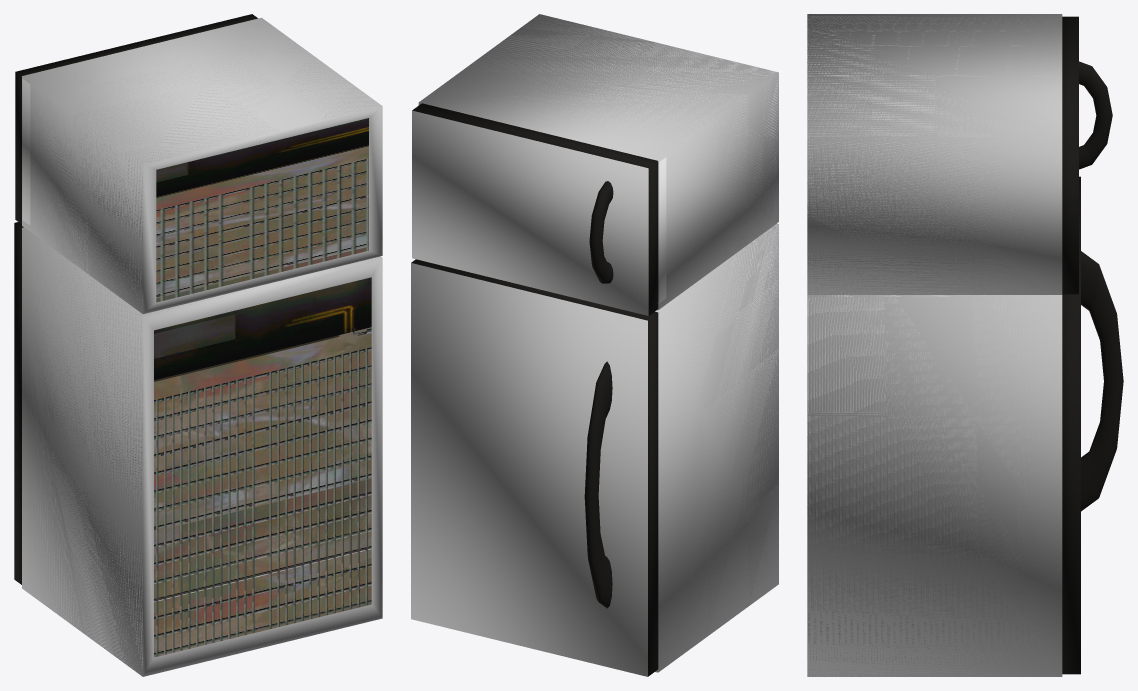
The model's file is Refrigerator.fbx.
3 renders of one model, left to right at view 1: azimuth 30°, elevation 25°; view 2: azimuth 150°, elevation 25°; view 3: azimuth 270°, elevation 25°, orthographic. The views are drawn at different scales.
Parts seen in each view (by area): view 1: refrigerator, refrigeratorBackCoils, fridgeDoor, freezerDoor, freezerInside; view 2: refrigerator, fridgeDoor, freezerDoor, fridgeHandle, freezerHandle, freezerInside; view 3: refrigerator, fridgeDoor, fridgeHandle, freezerDoor, freezerHandle.
Boxes of the visible parts, x1,y1,x2,y2 form: refrigerator: (22, 17, 382, 676); refrigeratorBackCoils: (154, 118, 371, 657); fridgeDoor: (14, 222, 23, 584); freezerDoor: (15, 14, 257, 224); freezerInside: (22, 79, 30, 225); refrigerator: (418, 14, 778, 672); fridgeDoor: (411, 259, 658, 676); freezerDoor: (412, 103, 658, 315); fridgeHandle: (584, 361, 612, 608); freezerHandle: (589, 181, 613, 283); freezerInside: (420, 103, 666, 303); refrigerator: (807, 14, 1062, 676); fridgeDoor: (1062, 176, 1080, 674); fridgeHandle: (1081, 251, 1123, 511); freezerDoor: (1062, 16, 1078, 294); freezerHandle: (1079, 61, 1112, 169).
Bounding box in the file's own units: 2.96 × 6.04 × 3.21.
